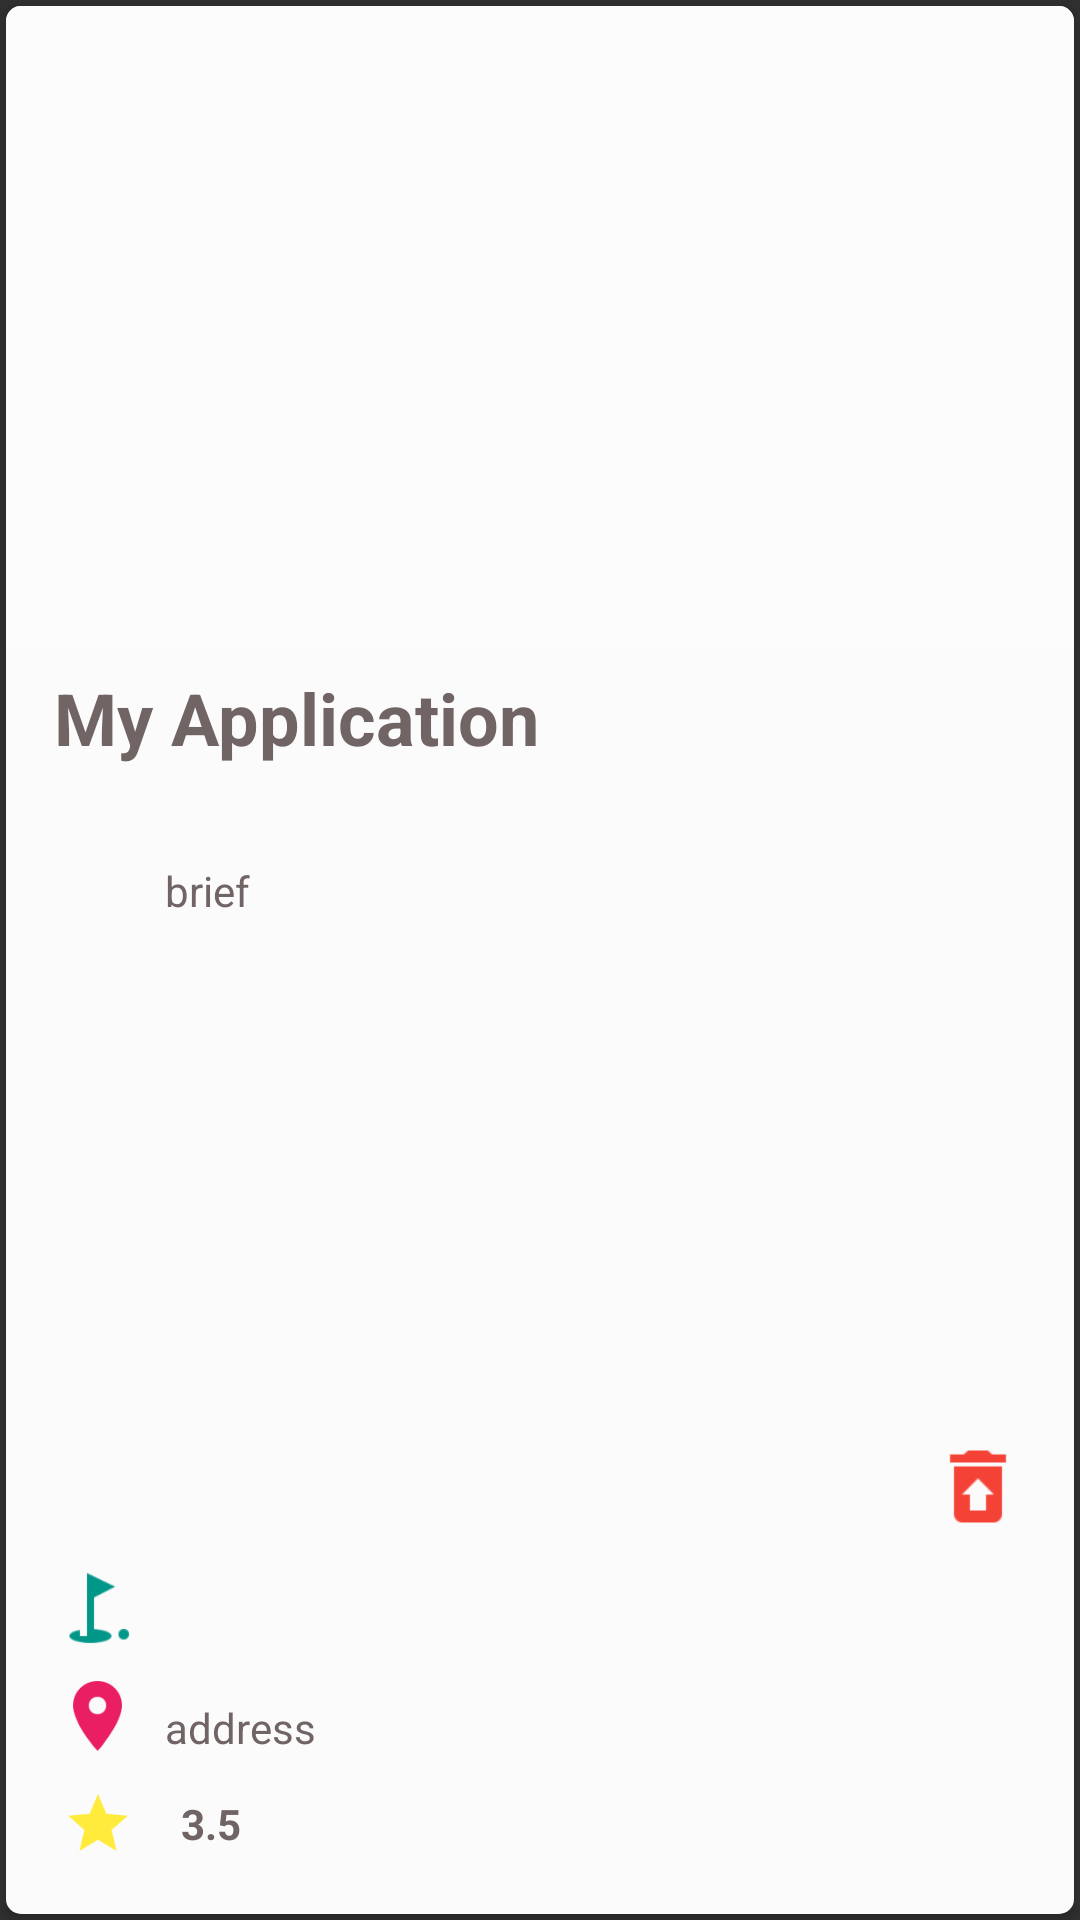

Icons on this 1080w x 1920h Android screen, each with the point to tap as [x,y]:
golf course: [99,1608]
location on: [97,1716]
restore from trash: [978,1486]
star: [98,1822]
